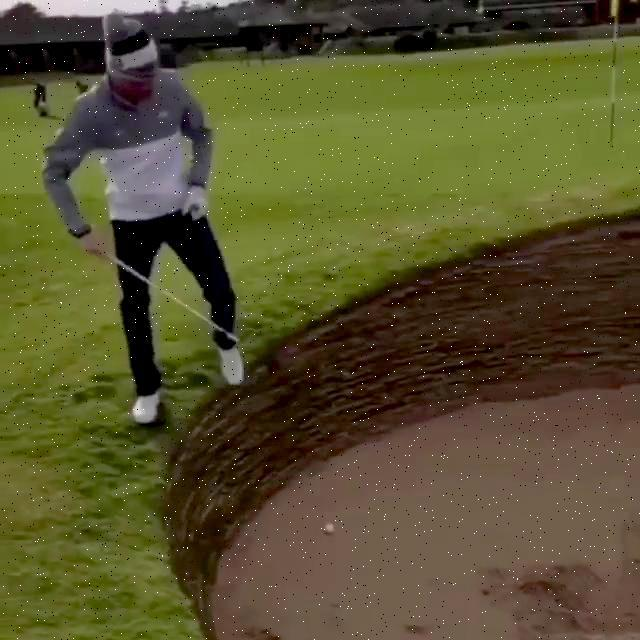ClubHandle: (104, 252, 240, 346)
ClubHead: (227, 334, 240, 346)
GolfBall: (324, 523, 334, 534)
